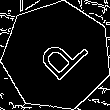P_SW: (25, 25, 88, 87)
